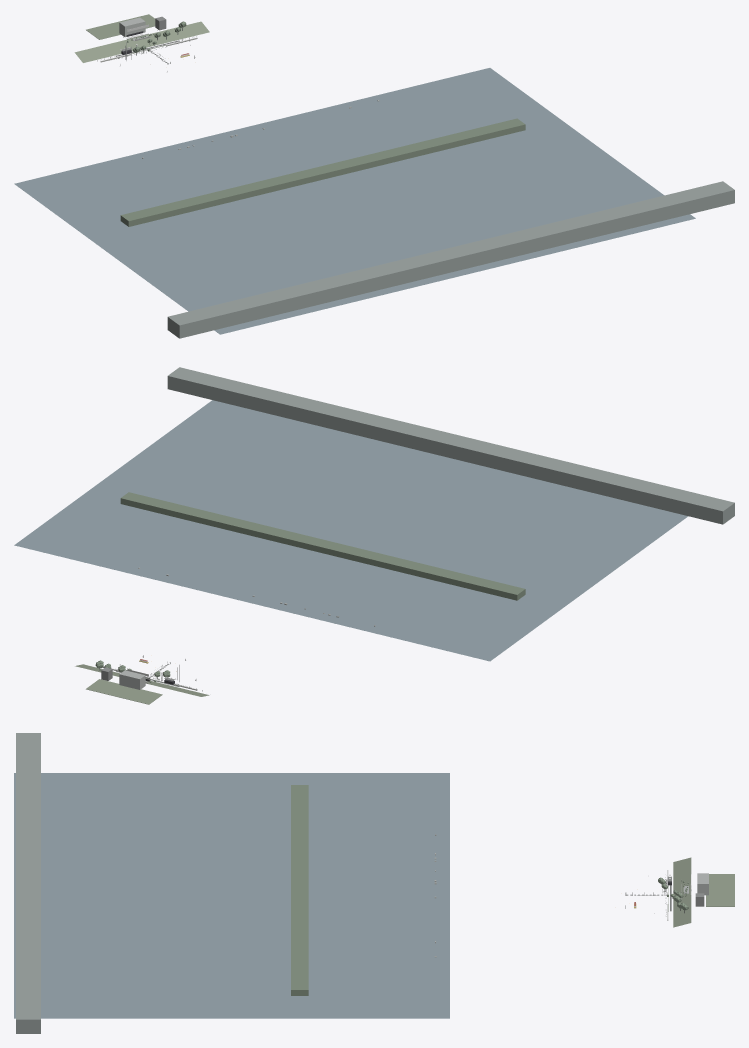
3 views of the same model, one above another, from view 1: azimuth 30°, elevation 25°; view 2: azimuth 150°, elevation 25°; view 3: azimuth 270°, elevation 25° (orthographic). The views are drawn at different scales.
Visible parts, largest first — view 1: lake, hills_far, hills_near, grass_slope, grass_upper; view 2: lake, hills_far, hills_near, grass_upper; view 3: lake, hills_far, hills_near, grass_slope, grass_upper.
Boxes of the visible parts, x1,y1,x2,y2 form: lake: (14,68,695,334); hills_far: (167,181,734,338); hills_near: (120,118,525,226); grass_slope: (74,21,209,62); grass_upper: (86,14,155,39); lake: (14,400,687,661); hills_far: (167,367,734,524); hills_near: (120,492,525,600); grass_upper: (86,679,162,704); lake: (14,773,449,1018); hills_far: (16,733,40,1033); hills_near: (291,785,308,995); grass_slope: (673,857,691,927); grass_upper: (706,874,734,906).
Size of what is drawn, in the model's own units: 350 by 11.5 by 372.
